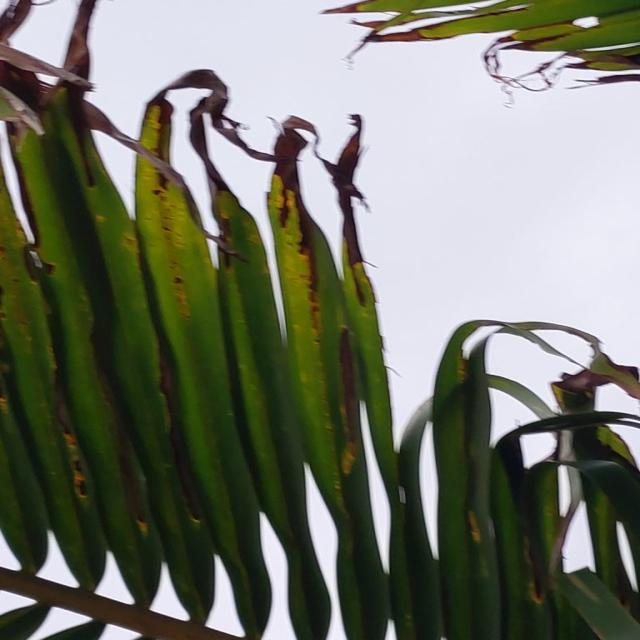leaf rot: (0, 73, 368, 230), (443, 307, 640, 489)
